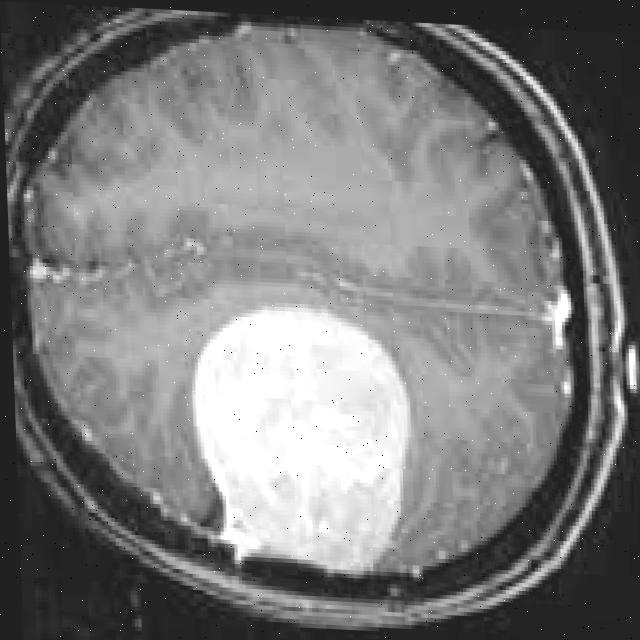Meningioma: (186, 293, 417, 585)
